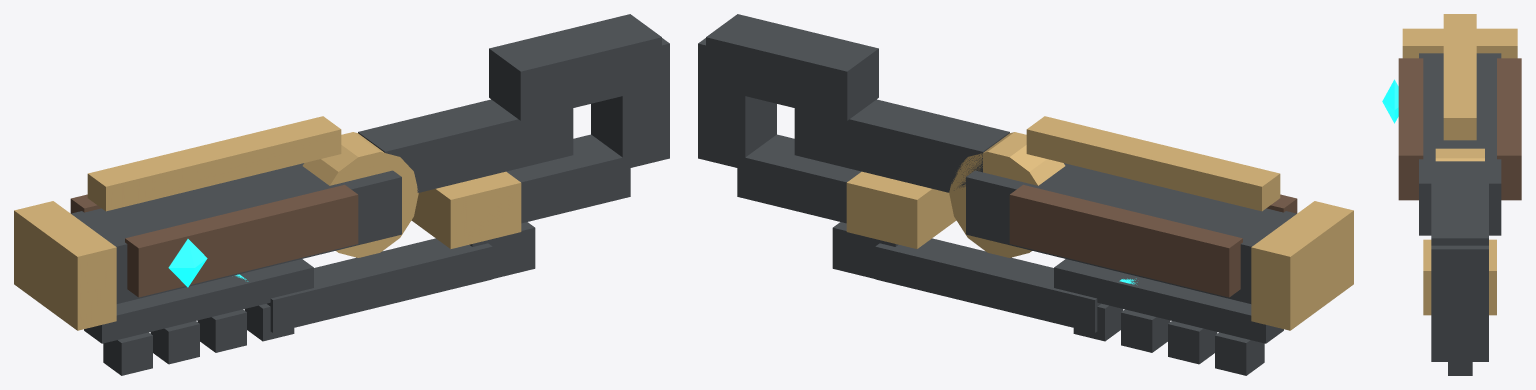
The model's file is SM_MKG_MultiTool_A01.fbx.
The picture shows the model from 3 angles, left to right: view 1: azimuth 30°, elevation 25°; view 2: azimuth 150°, elevation 25°; view 3: azimuth 270°, elevation 25°; orthographic projection. The views are drawn at different scales.
Parts seen in each view (by area): view 1: Handle_Leather_RightGripPanel, Tool_WrenchJaw_UpperHook, Tool_WrenchStem_DarkIron, Handle_DarkIron_FoldedSpine, Tool_ScrewdriverBlade_DarkIron, FoldedTool_Brass_FileSpine, EndCap_Brass_Back, FoldedTool_DarkIron_SawBack, Tool_WrenchJaw_LowerHook, Tool_WrenchJaw_BrassSlider, Tool_WrenchJaw_UpperTip, Hinge_Brass_MainPivot (+6 smaller); view 2: Handle_Leather_LeftGripPanel, Tool_WrenchJaw_UpperHook, Tool_WrenchStem_DarkIron, Handle_DarkIron_FoldedSpine, Tool_ScrewdriverBlade_DarkIron, FoldedTool_Brass_FileSpine, EndCap_Brass_Back, FoldedTool_DarkIron_SawBack, Tool_WrenchJaw_LowerHook, Tool_WrenchJaw_BrassSlider, Tool_WrenchJaw_UpperTip, Hinge_Brass_MainPivot (+5 smaller); view 3: Handle_DarkIron_FoldedSpine, Tool_WrenchJaw_UpperTip, FoldedTool_Brass_FileSpine, Tool_WrenchJaw_UpperHook, Handle_Leather_RightGripPanel, Handle_Leather_LeftGripPanel, EndCap_Brass_Back, Tool_WrenchJaw_BrassSlider, Tool_WrenchStem_DarkIron, Hinge_Brass_MainPivot, Tool_WrenchJaw_LowerHook, Aetherium_CalibrationInset_Blue (+1 smaller).
Boxes of the visible parts, left/top/right/bottom form: Handle_Leather_RightGripPanel: left=125, top=184, right=358, bottom=297; Tool_WrenchJaw_UpperHook: left=489, top=14, right=661, bottom=120; Tool_WrenchStem_DarkIron: left=358, top=99, right=573, bottom=192; Handle_DarkIron_FoldedSpine: left=71, top=163, right=401, bottom=303; Tool_ScrewdriverBlade_DarkIron: left=267, top=238, right=492, bottom=332; FoldedTool_Brass_FileSpine: left=87, top=116, right=341, bottom=211; EndCap_Brass_Back: left=14, top=201, right=116, bottom=330; FoldedTool_DarkIron_SawBack: left=84, top=259, right=313, bottom=343; Tool_WrenchJaw_LowerHook: left=506, top=134, right=630, bottom=223; Tool_WrenchJaw_BrassSlider: left=411, top=171, right=521, bottom=248; Tool_WrenchJaw_UpperTip: left=591, top=38, right=669, bottom=167; Hinge_Brass_MainPivot: left=302, top=132, right=418, bottom=257; Handle_Leather_LeftGripPanel: left=1009, top=184, right=1242, bottom=297; Tool_WrenchJaw_UpperHook: left=706, top=14, right=878, bottom=120; Tool_WrenchStem_DarkIron: left=794, top=99, right=1009, bottom=192; Handle_DarkIron_FoldedSpine: left=966, top=163, right=1296, bottom=303; Tool_ScrewdriverBlade_DarkIron: left=875, top=238, right=1100, bottom=332; FoldedTool_Brass_FileSpine: left=1026, top=116, right=1280, bottom=211; EndCap_Brass_Back: left=1251, top=201, right=1353, bottom=330; FoldedTool_DarkIron_SawBack: left=1054, top=259, right=1283, bottom=343; Tool_WrenchJaw_LowerHook: left=737, top=134, right=861, bottom=223; Tool_WrenchJaw_BrassSlider: left=846, top=171, right=956, bottom=248; Tool_WrenchJaw_UpperTip: left=698, top=38, right=776, bottom=168; Hinge_Brass_MainPivot: left=949, top=132, right=1065, bottom=257; Handle_DarkIron_FoldedSpine: left=1419, top=53, right=1501, bottom=235; Tool_WrenchJaw_UpperTip: left=1431, top=245, right=1488, bottom=353; FoldedTool_Brass_FileSpine: left=1443, top=14, right=1476, bottom=140; Tool_WrenchJaw_UpperHook: left=1431, top=176, right=1488, bottom=245; Handle_Leather_RightGripPanel: left=1398, top=58, right=1423, bottom=200; Handle_Leather_LeftGripPanel: left=1497, top=58, right=1521, bottom=200; EndCap_Brass_Back: left=1402, top=28, right=1517, bottom=58; Tool_WrenchJaw_BrassSlider: left=1423, top=239, right=1496, bottom=315; Tool_WrenchStem_DarkIron: left=1435, top=161, right=1484, bottom=175; Hinge_Brass_MainPivot: left=1435, top=148, right=1484, bottom=161; Tool_WrenchJaw_LowerHook: left=1431, top=353, right=1488, bottom=361; Aetherium_CalibrationInset_Blue: left=1382, top=79, right=1398, bottom=123.
Size of what is drawn, in the model's own units: 1700 by 7750 by 2600.
